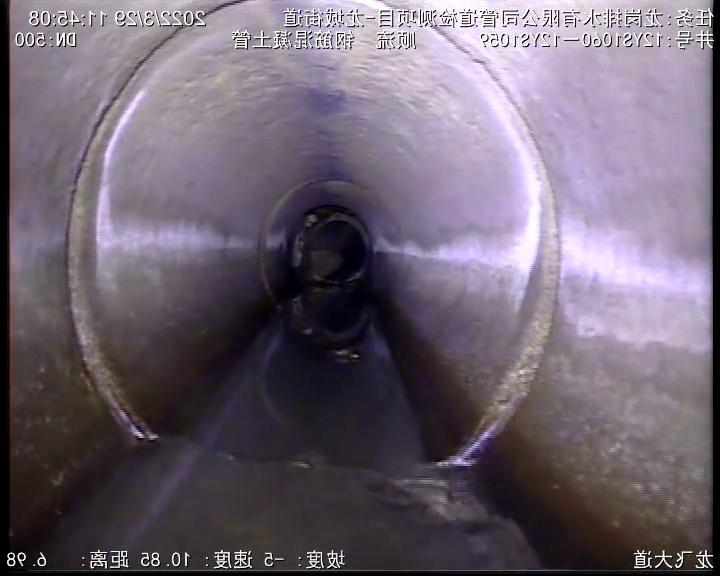CKTJ: (429, 28, 561, 469), (68, 37, 175, 440), (259, 181, 328, 304)
